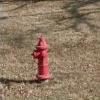Hydrant: (19, 26, 59, 84)
